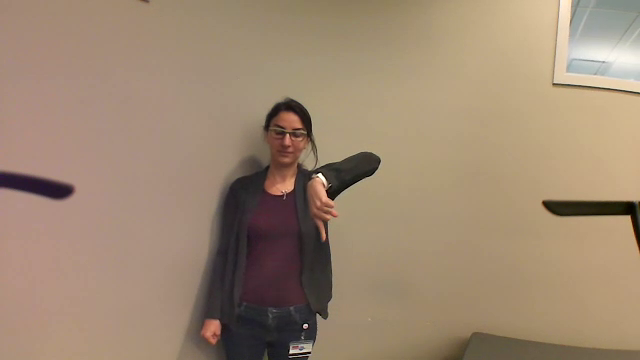down: (299, 169, 342, 249)
